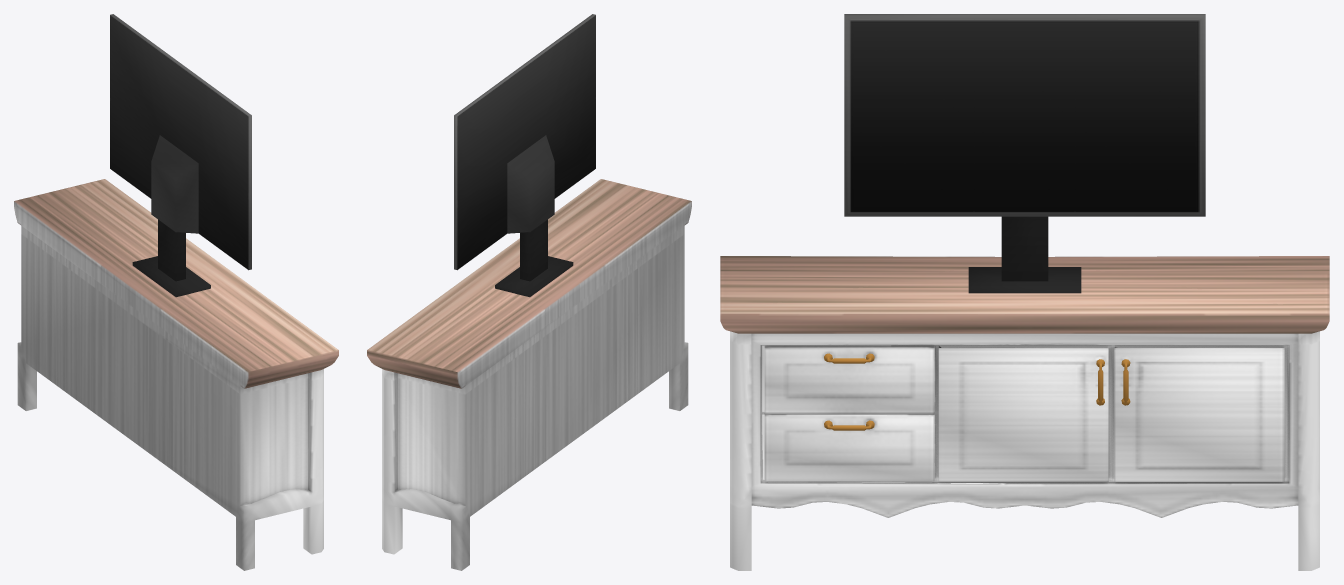
3 views of the same model, side by side, from view 1: azimuth 30°, elevation 25°; view 2: azimuth 150°, elevation 25°; view 3: azimuth 270°, elevation 25° (orthographic). The views are drawn at different scales.
Visible parts, largest first — view 1: Object_14; view 2: Object_14; view 3: Object_14.
Part boxes in pixels (x1,y1,x2,y2): Object_14: (14, 14, 338, 570); Object_14: (367, 14, 691, 570); Object_14: (720, 14, 1329, 570).
Size of the model in its own units: 0.2618 by 1.13 by 1.17.
1 material, 1 textured.
